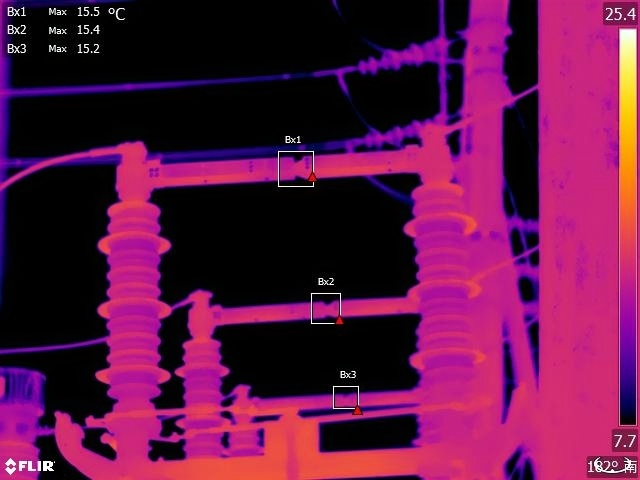clamp: (330, 60, 356, 97), (340, 130, 359, 153)
current transformer: (1, 352, 55, 480)
insulator: (353, 30, 449, 81), (364, 111, 449, 148)
post insulator: (403, 180, 481, 436), (100, 202, 177, 409), (175, 333, 230, 460), (226, 419, 261, 459)
switch: (108, 124, 466, 203), (189, 283, 414, 346), (221, 372, 416, 419)
